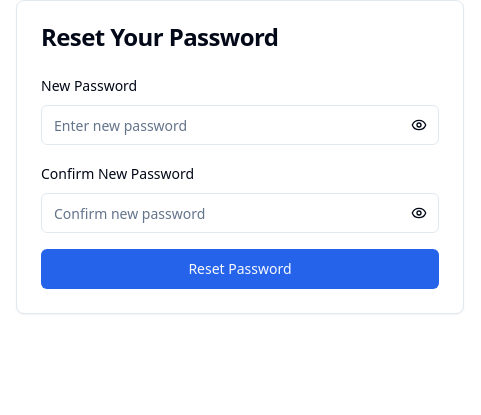
it: PasswordResetForm › shows validation error for mismatched passwords
Expected: the heading "Reset Your Password" is shown, 41,20 -> 278,53
Type "password123" into the password field labelled "New Password".
click(240, 125); type("password123")  # box 41,105 -> 439,145
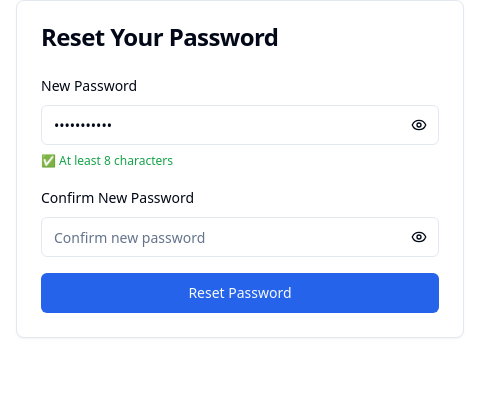
Type "password456" into the password field labelled "Confirm New Password".
click(240, 237); type("password456")  # box 41,217 -> 439,257
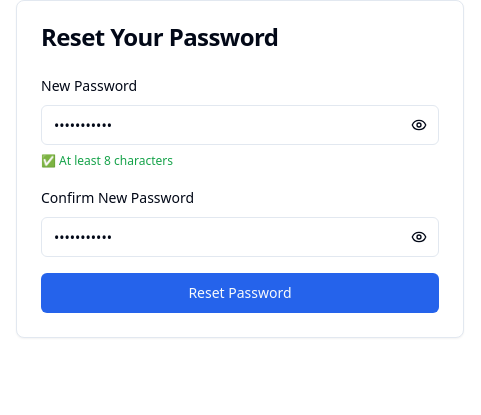
Click the button "Reset Password".
click(240, 293)  # box 41,273 -> 439,313
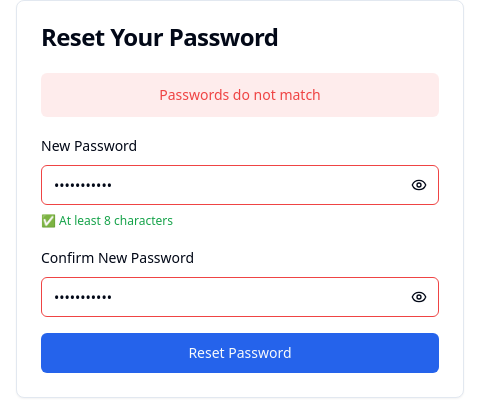
Now the text "Passwords do not match" is shown, box 41,73 -> 439,117
